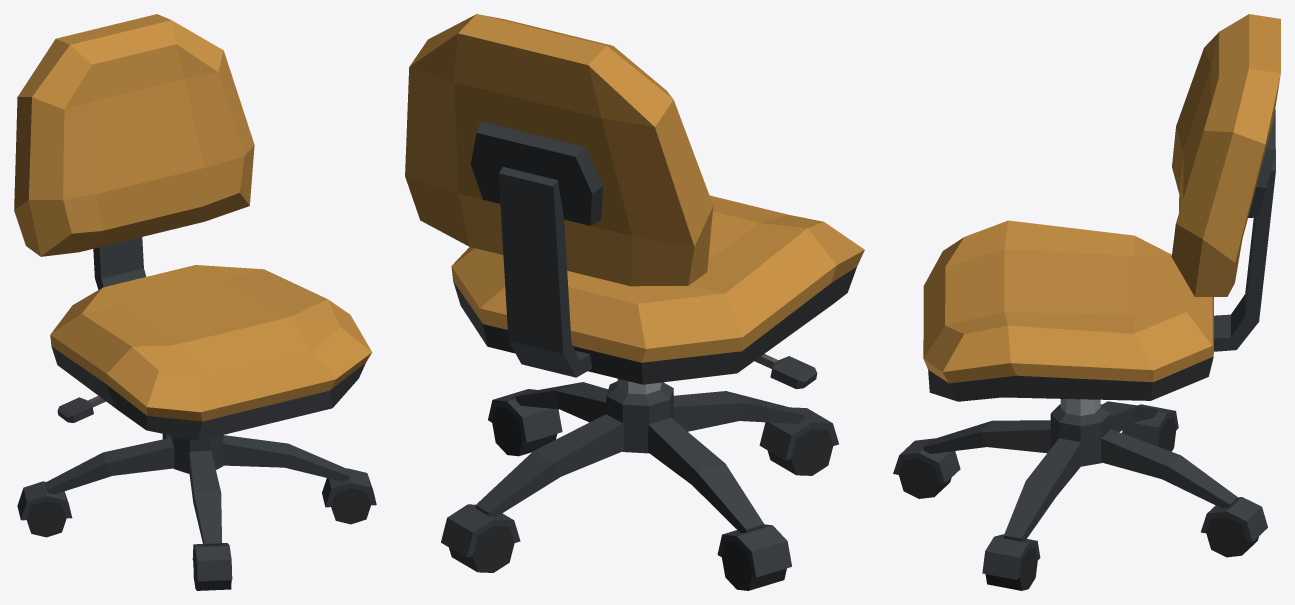
The model's file is chair.glb.
3 renders of one model, left to right at view 1: azimuth 30°, elevation 25°; view 2: azimuth 150°, elevation 25°; view 3: azimuth 270°, elevation 25°, orthographic. The views are drawn at different scales.
Visible parts, largest first — view 1: SM_Prop_Shop_Chair_01_Seat, SM_Prop_Shop_Chair_01; view 2: SM_Prop_Shop_Chair_01_Seat, SM_Prop_Shop_Chair_01; view 3: SM_Prop_Shop_Chair_01_Seat, SM_Prop_Shop_Chair_01.
Part boxes in pixels (x1,y1,x2,y2): SM_Prop_Shop_Chair_01_Seat: (14,14,372,440); SM_Prop_Shop_Chair_01: (17,434,376,590); SM_Prop_Shop_Chair_01_Seat: (405,14,864,389); SM_Prop_Shop_Chair_01: (441,378,838,590); SM_Prop_Shop_Chair_01_Seat: (923,14,1280,401); SM_Prop_Shop_Chair_01: (893,399,1267,590).
Bounding box in the file's own units: 0.661 × 0.9326 × 0.6836.
1 material, 1 textured.
